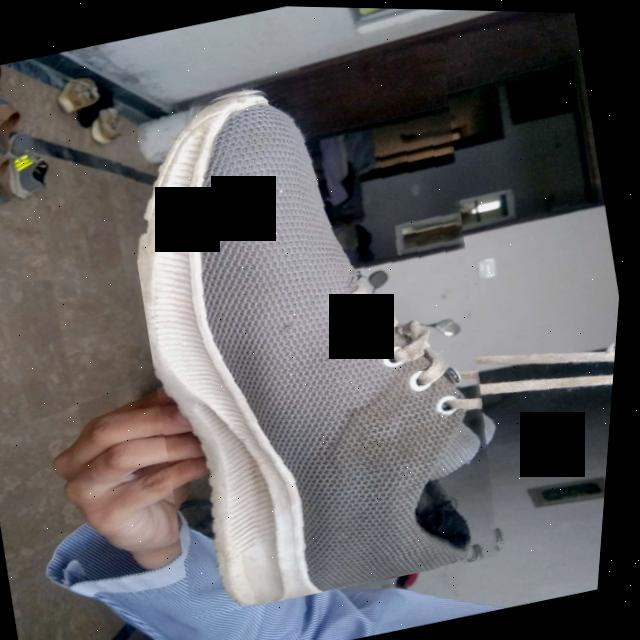shoe: (87, 41, 558, 623)
